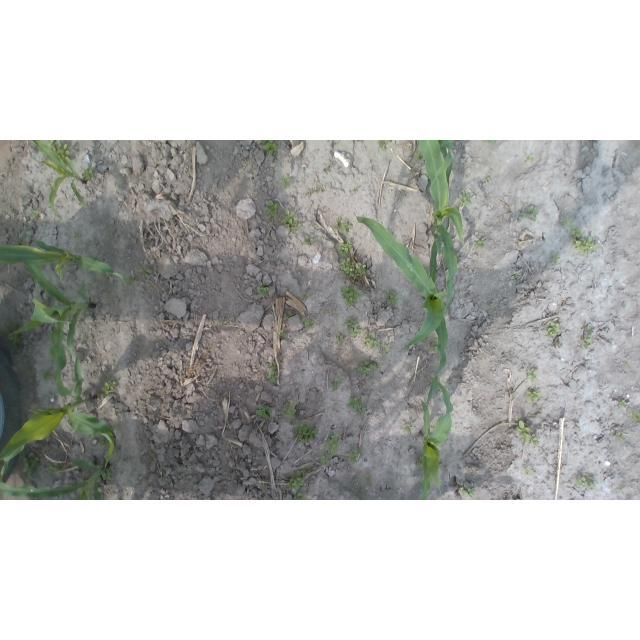Maize: (356, 216, 449, 405), (1, 354, 116, 476), (9, 255, 96, 397), (419, 141, 466, 312), (0, 226, 128, 288), (32, 141, 92, 224), (417, 373, 454, 500), (1, 459, 112, 500)
Weeds: (572, 229, 599, 256), (340, 258, 369, 280), (516, 420, 540, 446), (293, 424, 319, 445), (48, 140, 70, 162), (340, 286, 362, 307), (282, 209, 301, 232), (289, 470, 308, 490), (344, 318, 362, 339), (23, 457, 42, 476), (335, 217, 354, 235), (6, 325, 24, 344), (346, 445, 364, 463), (582, 325, 595, 349), (544, 322, 562, 339), (263, 200, 279, 219), (525, 388, 544, 404), (576, 474, 596, 489), (328, 433, 341, 456), (358, 361, 379, 375), (520, 205, 537, 222), (364, 333, 381, 349), (282, 403, 297, 420), (350, 398, 365, 415), (425, 338, 442, 353), (256, 403, 271, 419), (262, 140, 279, 154), (458, 190, 472, 206), (101, 380, 117, 394), (81, 167, 95, 182), (337, 241, 353, 254), (460, 485, 476, 498), (47, 463, 65, 474), (307, 185, 325, 196), (256, 282, 268, 298), (268, 363, 277, 384), (302, 234, 315, 247), (526, 367, 538, 381), (302, 318, 316, 330), (101, 435, 117, 445), (124, 275, 137, 287), (321, 451, 332, 465), (42, 370, 56, 381), (387, 294, 399, 306), (331, 378, 343, 390), (472, 239, 485, 250), (280, 176, 291, 187), (617, 432, 629, 442), (416, 456, 425, 469), (140, 268, 153, 277), (405, 423, 414, 435), (31, 209, 41, 219), (413, 152, 424, 161), (525, 153, 534, 164), (564, 217, 573, 228), (102, 472, 113, 481), (379, 140, 391, 148), (632, 411, 640, 423), (294, 493, 307, 500), (381, 345, 390, 355), (335, 335, 343, 345), (283, 312, 293, 320), (301, 292, 309, 301), (619, 400, 628, 408), (323, 163, 331, 172), (523, 468, 533, 475), (552, 256, 560, 264), (280, 330, 287, 339), (616, 487, 624, 494), (366, 475, 373, 483), (358, 489, 366, 496), (72, 231, 80, 238), (513, 274, 520, 281), (488, 303, 496, 309), (488, 141, 497, 146), (482, 177, 490, 182), (219, 318, 227, 323), (352, 187, 358, 193), (509, 497, 520, 500)
